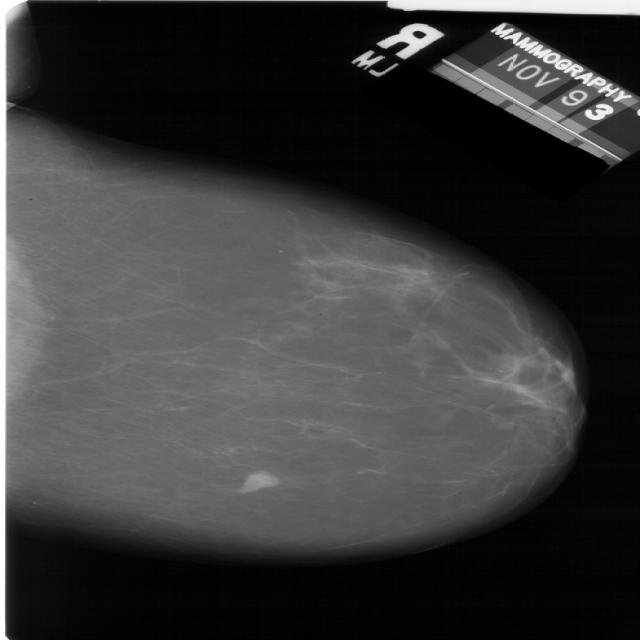tumour: (237, 469, 278, 493)
